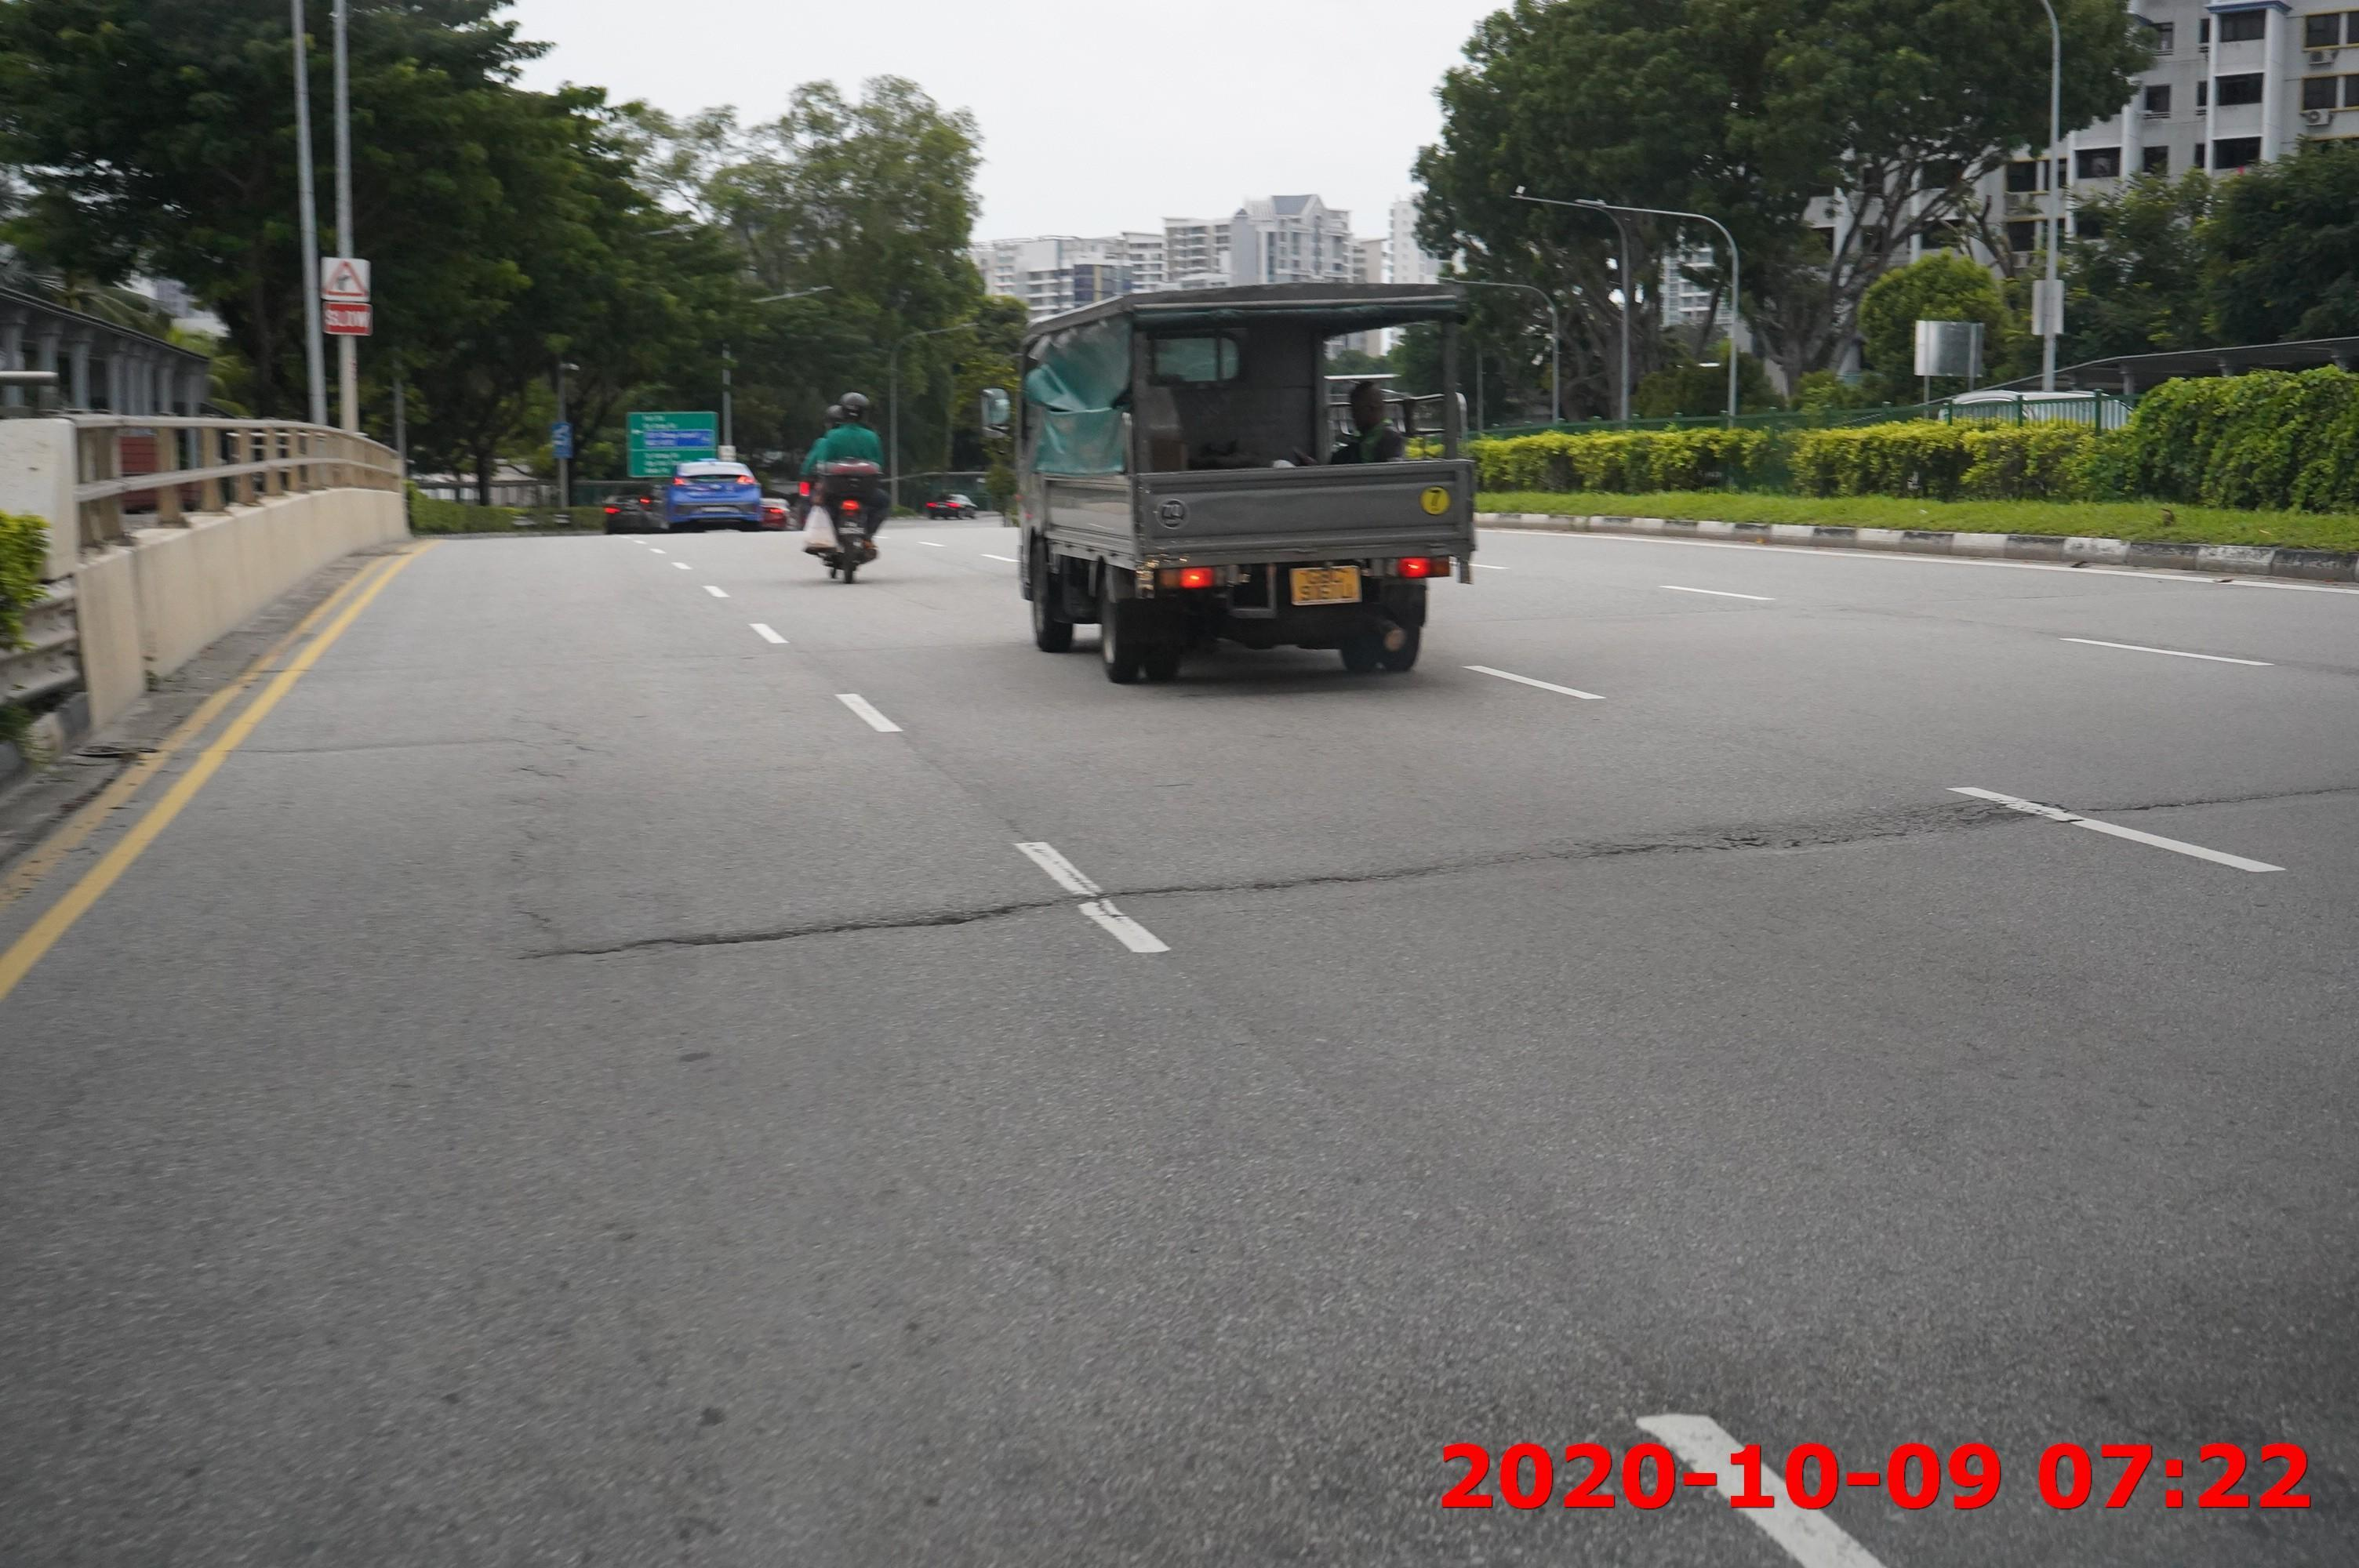transverse crack: (518, 831, 1621, 973), (150, 726, 537, 770)
